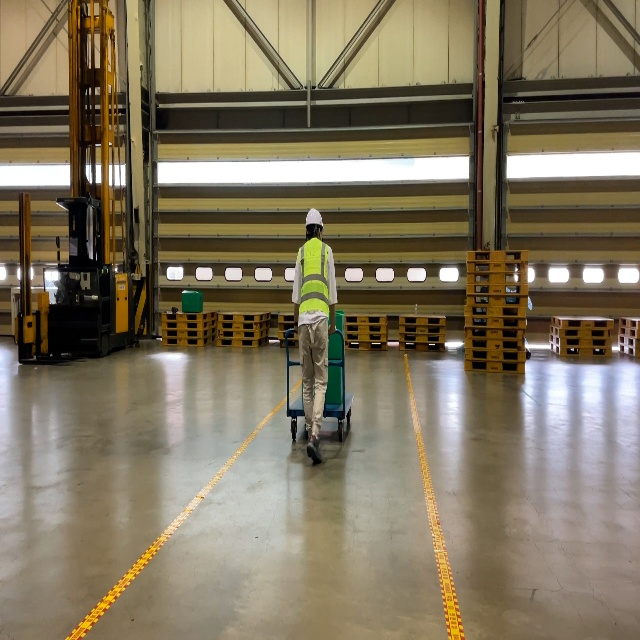Worker: (292, 208, 338, 462)
